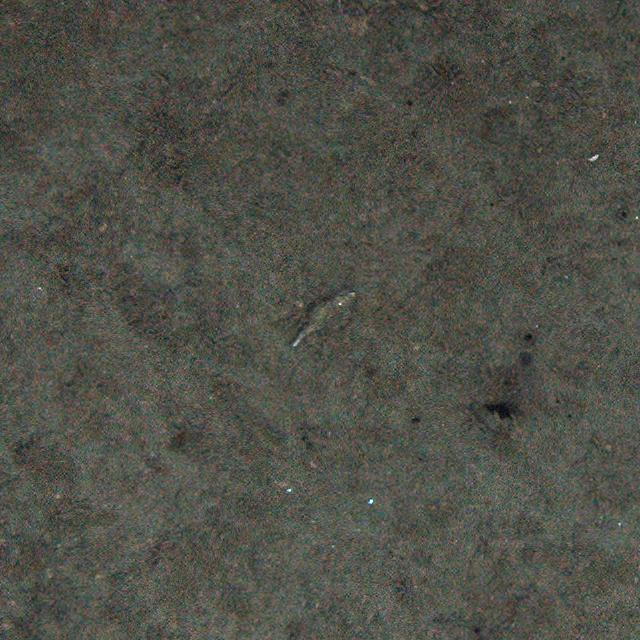whelk: (286, 290, 362, 339)
